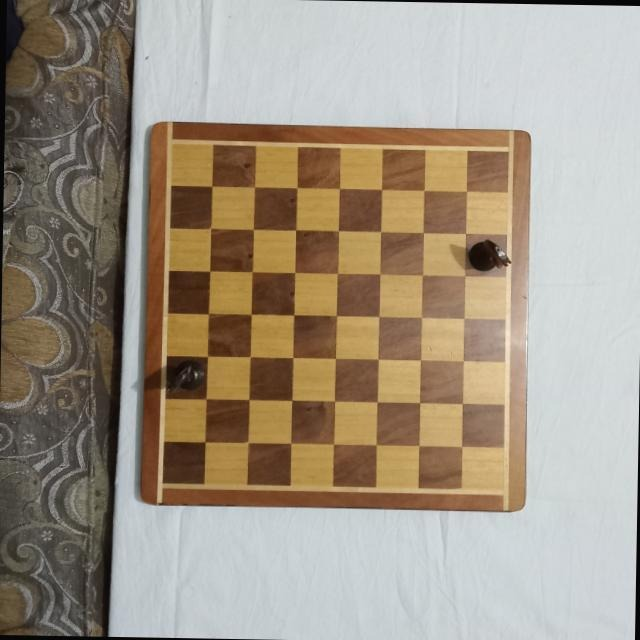black-knight: (463, 238, 512, 274), (164, 358, 204, 397)
